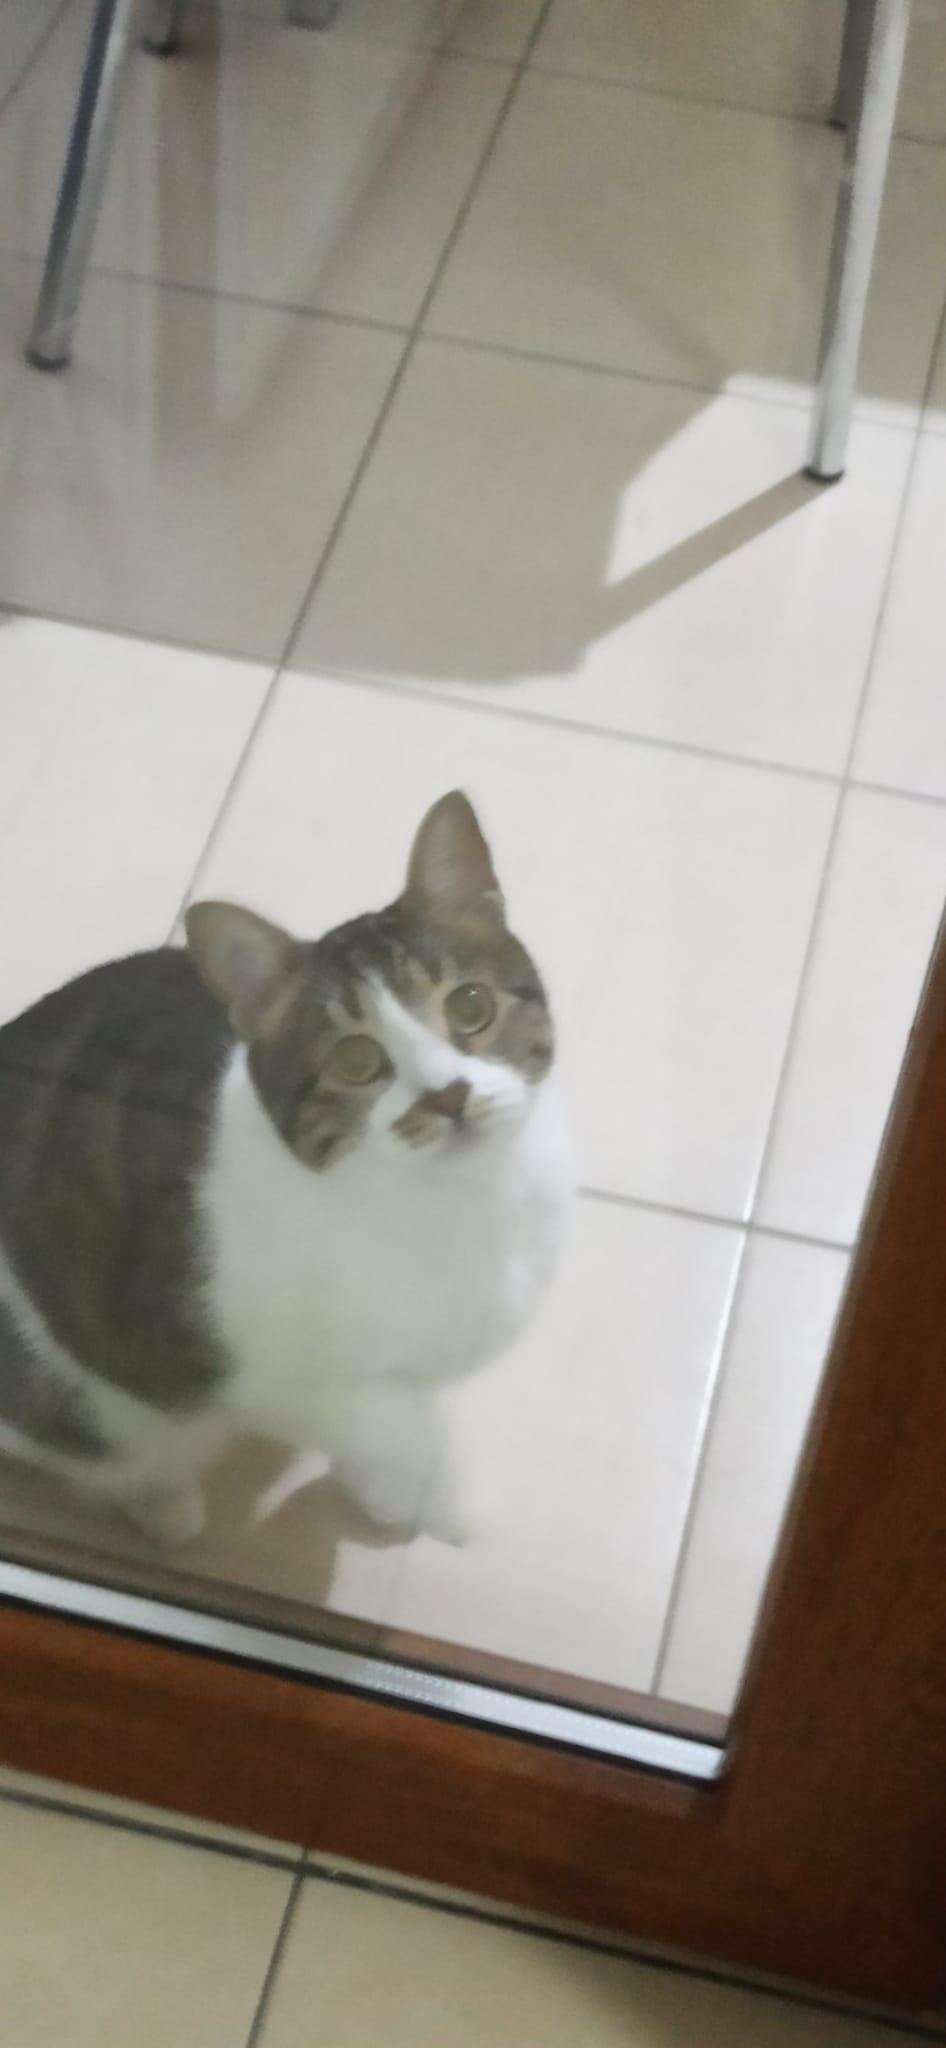kedo: (0, 790, 562, 1549)
